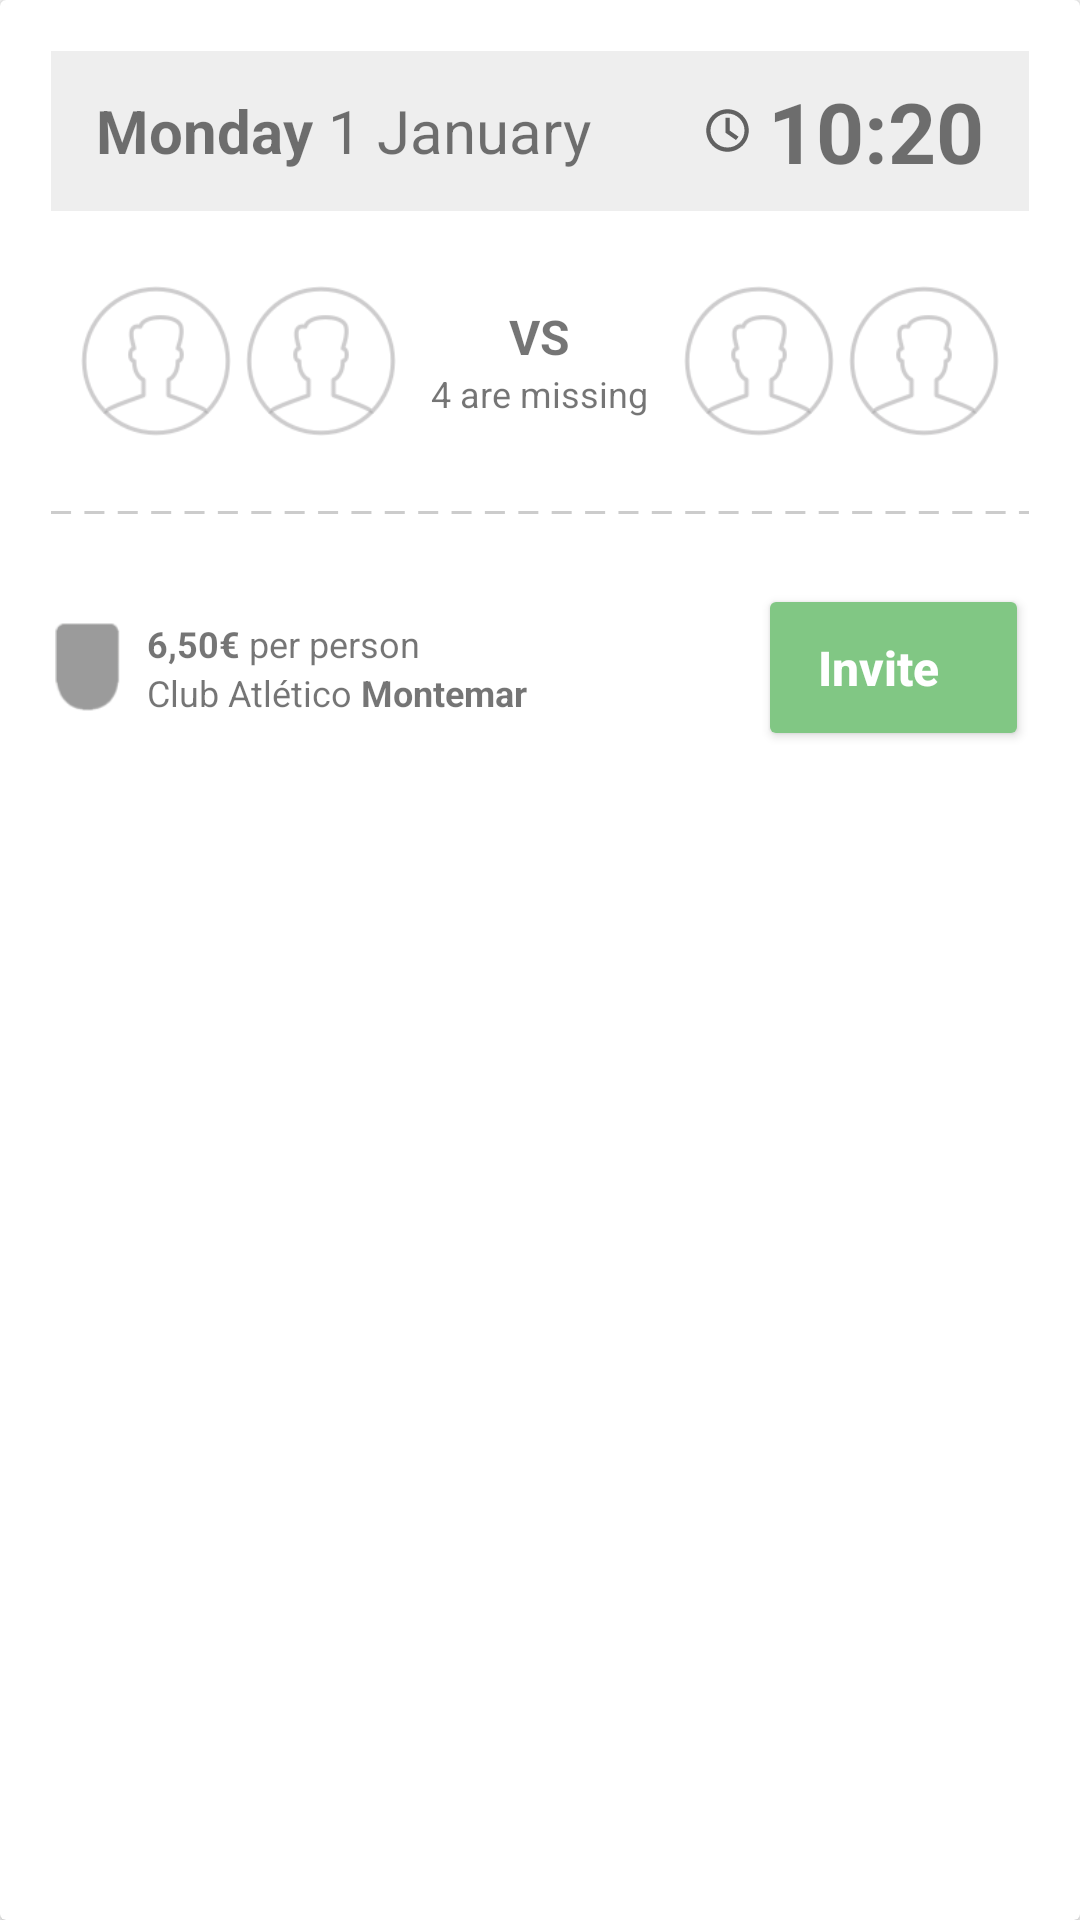

Screen size 1080*1920. Icon name, then its center in pixels as point (x, y):
Clock: point (727, 130)
Player profile picture: point (156, 361), point (321, 361), point (759, 361), point (924, 361)
